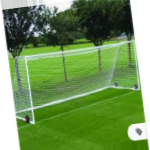goals: (13, 40, 140, 124)
